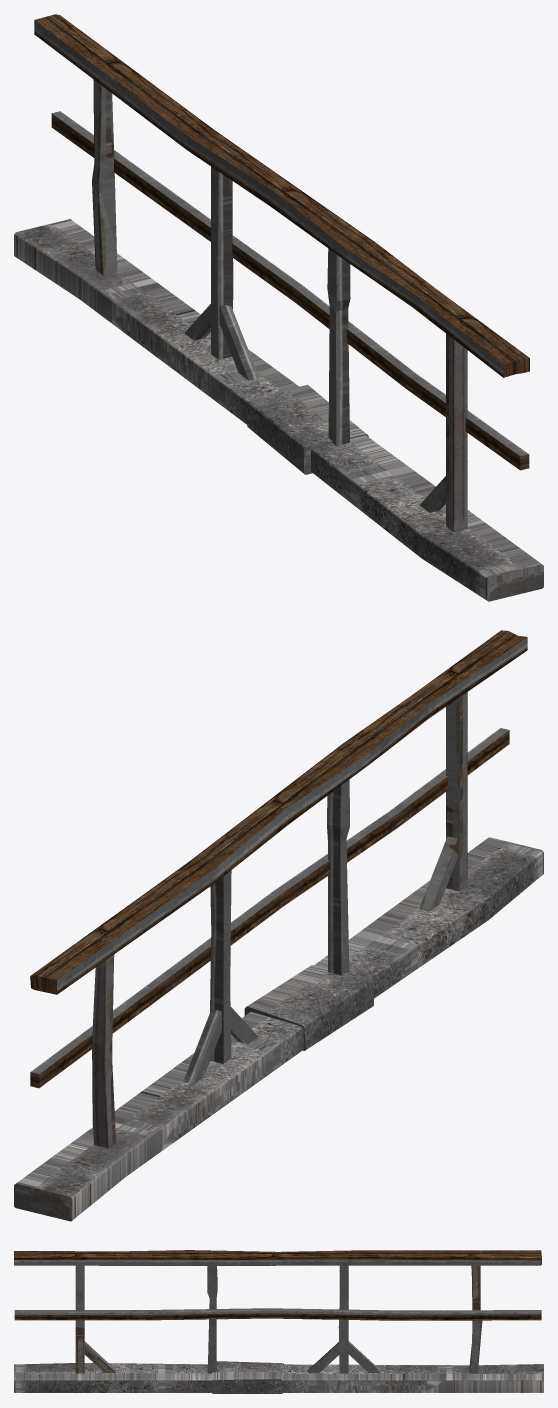
Rendered from MC_Battlements_Wall_F_4m.fbx.
3 renders of one model, top to bottom at view 1: azimuth 30°, elevation 25°; view 2: azimuth 150°, elevation 25°; view 3: azimuth 270°, elevation 25°, orthographic. The views are drawn at different scales.
Parts seen in each view (by area): view 1: MC_Battlements_Wall_F_4m_LOD0; view 2: MC_Battlements_Wall_F_4m_LOD0; view 3: MC_Battlements_Wall_F_4m_LOD0.
Part boxes in pixels (x1,y1,x2,y2): MC_Battlements_Wall_F_4m_LOD0: (14, 14, 543, 601); MC_Battlements_Wall_F_4m_LOD0: (14, 630, 543, 1221); MC_Battlements_Wall_F_4m_LOD0: (14, 1250, 543, 1393).
Size of what is drawn, in the model's own units: 33.06 by 110 by 401.
